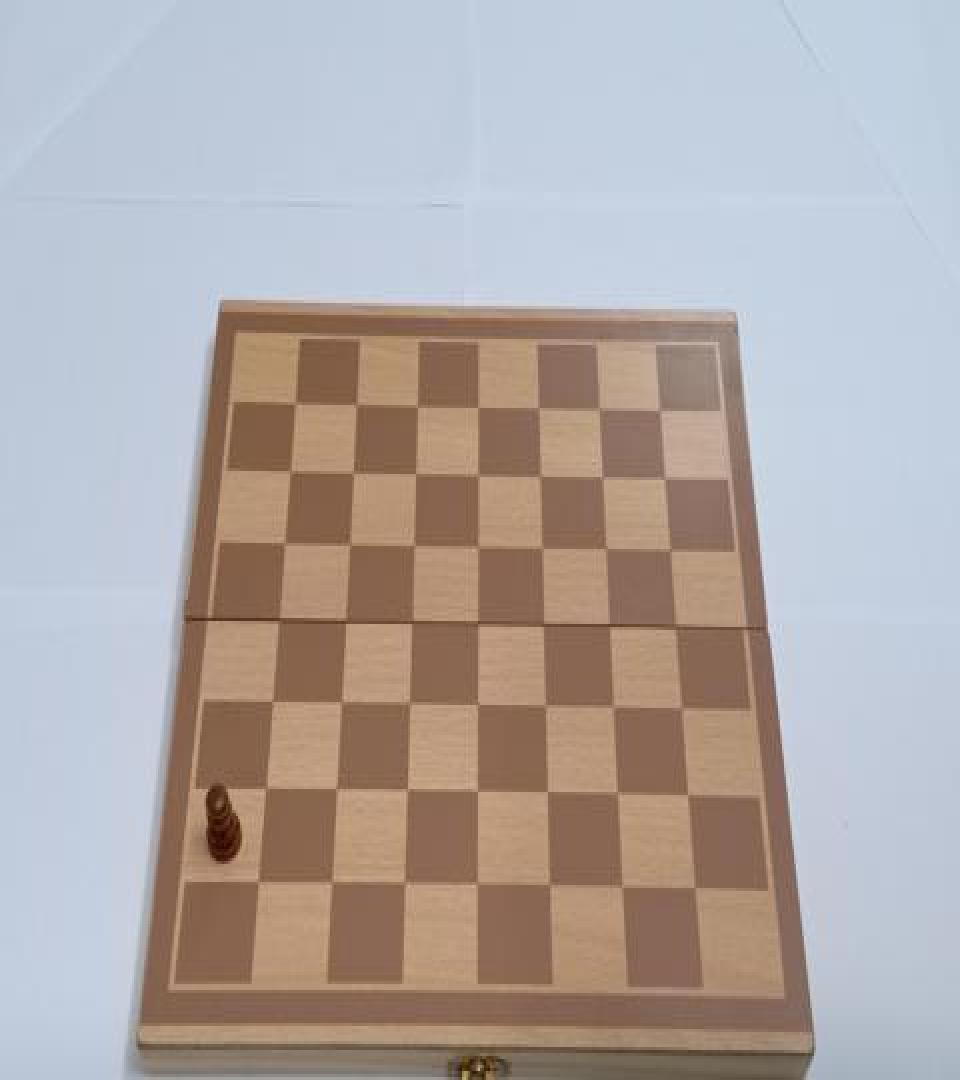xcorner: (282, 460, 300, 488), (408, 394, 426, 422), (469, 394, 487, 422), (604, 694, 622, 722), (672, 694, 690, 722), (287, 393, 305, 420), (276, 532, 294, 559), (270, 609, 288, 636), (264, 690, 282, 717), (257, 777, 275, 804), (250, 868, 268, 895), (348, 393, 366, 420), (344, 462, 362, 489), (340, 534, 358, 561), (336, 610, 354, 637), (327, 777, 345, 804), (322, 870, 340, 897), (407, 462, 425, 489), (405, 534, 423, 561), (402, 610, 420, 637), (398, 778, 416, 805), (395, 870, 413, 897), (468, 612, 486, 639), (468, 693, 486, 720), (468, 780, 486, 807), (529, 396, 547, 423), (534, 612, 552, 639), (536, 693, 554, 720), (538, 780, 556, 807), (590, 396, 608, 423), (593, 465, 611, 492), (597, 537, 615, 564), (612, 873, 630, 900), (650, 397, 668, 424), (655, 465, 673, 492), (660, 537, 678, 564), (685, 874, 703, 901), (332, 692, 350, 718), (400, 692, 418, 718), (469, 464, 487, 490), (469, 536, 487, 562), (468, 872, 486, 898), (531, 464, 549, 490), (533, 536, 551, 562), (540, 872, 558, 898), (600, 614, 618, 640), (608, 782, 626, 808), (666, 614, 684, 640), (678, 782, 696, 808)
